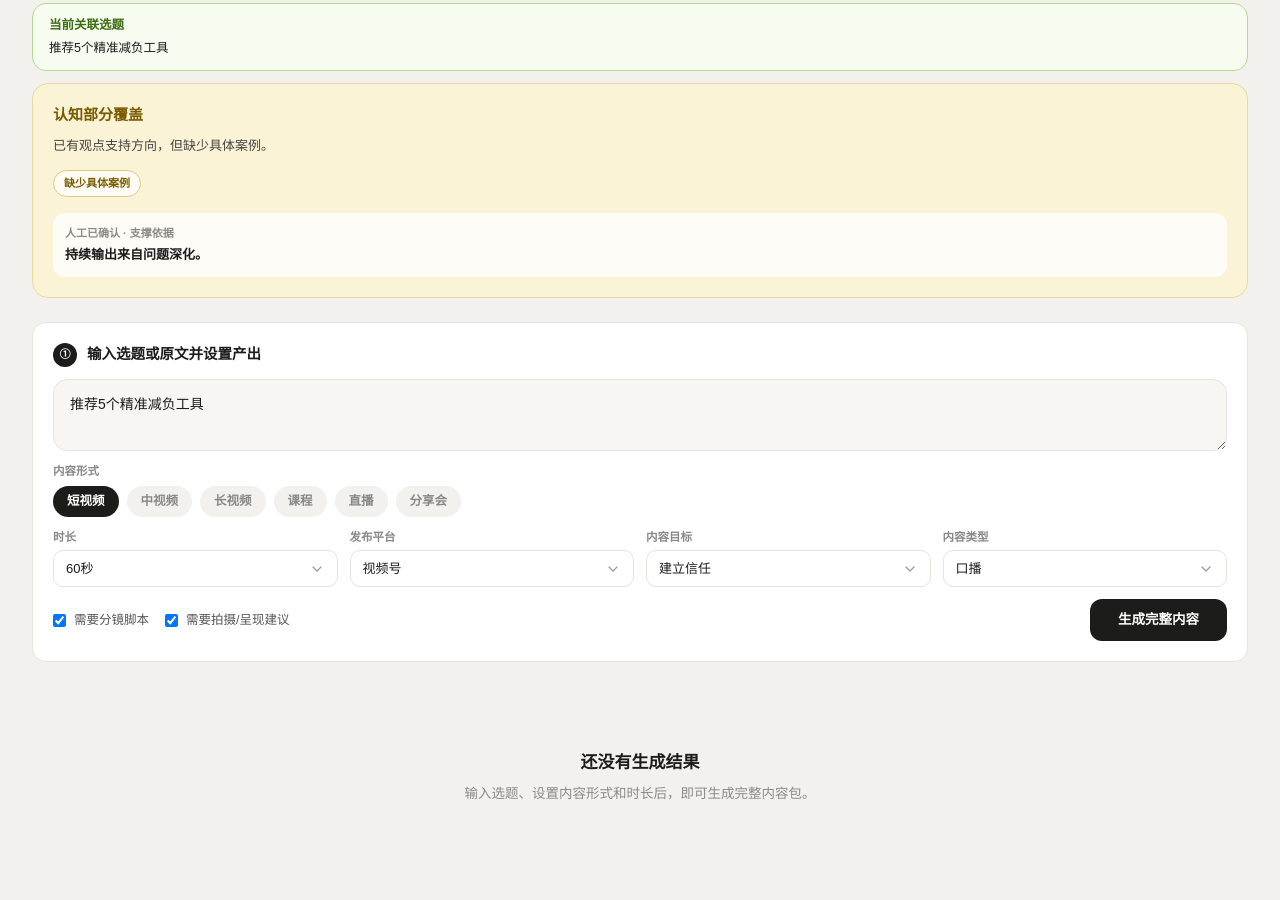
Scenario: 直接URL仅部分覆盖时生成前必须二次确认
The image size is (1280, 900).
(page scrolled)
Expected: the text "认知部分覆盖" is shown, 53,106 -> 143,122
Click the button "生成完整内容" at (1158, 620), box 1090,599 -> 1227,641
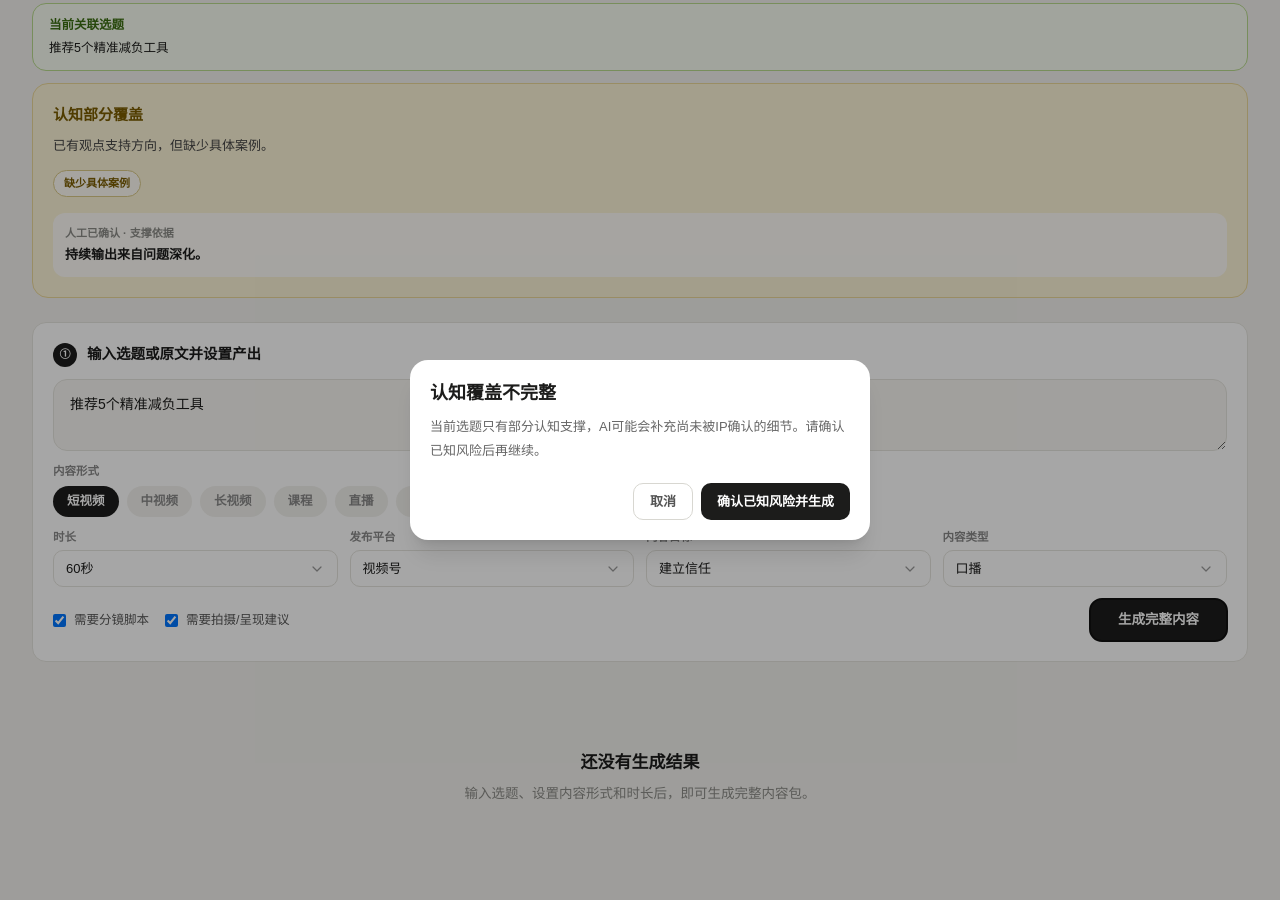
Result: the dialog "认知覆盖不完整" is shown
